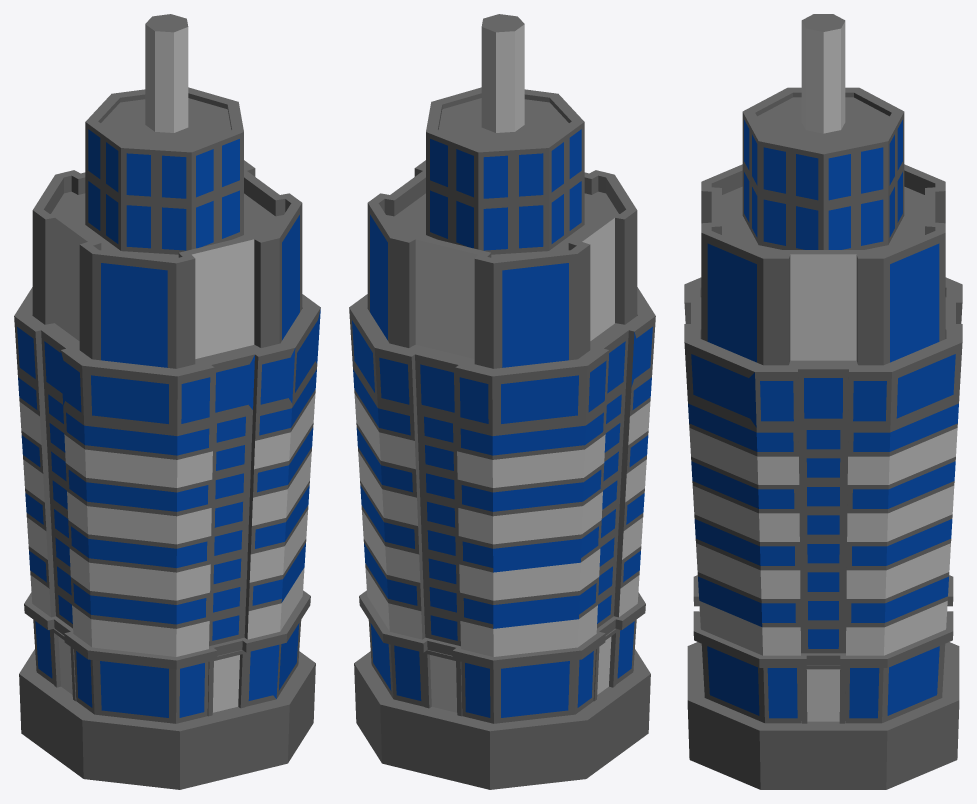
Rendered from Building1.fbx.
The picture shows the model from 3 angles, left to right: view 1: azimuth 30°, elevation 25°; view 2: azimuth 150°, elevation 25°; view 3: azimuth 270°, elevation 25°; orthographic projection.
Parts seen in each view (by area): view 1: Null_3; view 2: Null_3; view 3: Null_3.
Boxes of the visible parts, x1,y1,x2,y2 form: Null_3: (14, 14, 320, 789); Null_3: (349, 14, 655, 789); Null_3: (684, 14, 962, 789).
Size of the model in its own units: 168 by 473 by 168.
